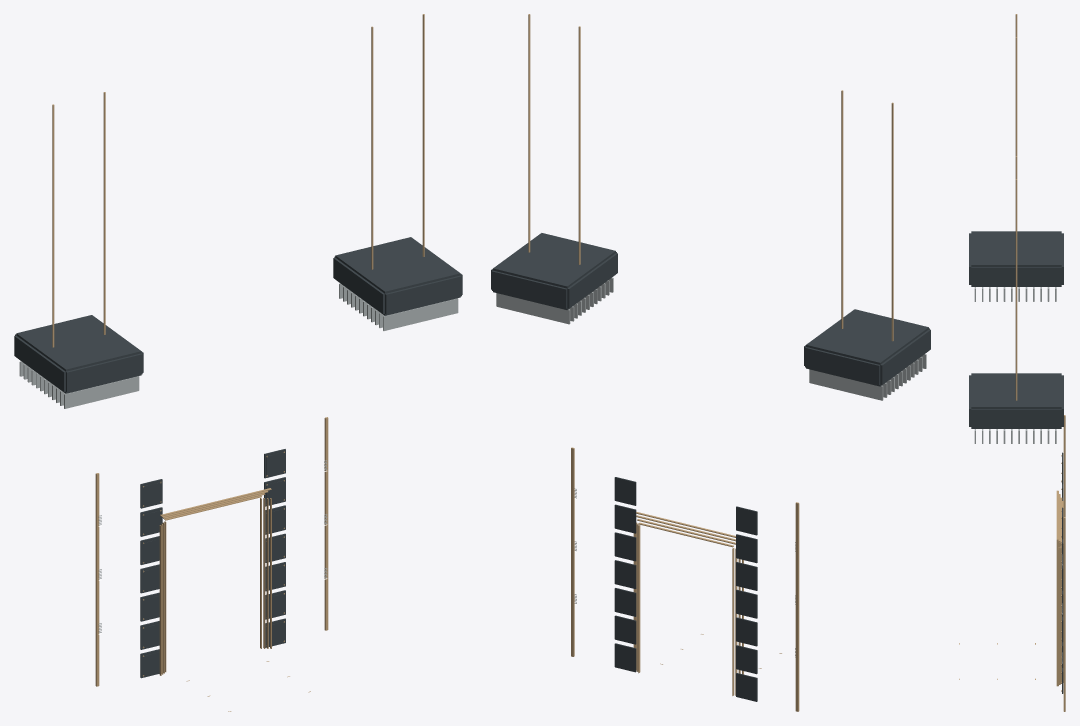
File: A-gate.glb
3 renders of one model, left to right at view 1: azimuth 30°, elevation 25°; view 2: azimuth 150°, elevation 25°; view 3: azimuth 270°, elevation 25°, orthographic. The views are drawn at different scales.
Visible parts, largest first — view 1: A-gate-basalt, A-gate-bronze, A-gate-metal; view 2: A-gate-basalt, A-gate-bronze, A-gate-metal; view 3: A-gate-basalt, A-gate-bronze, A-gate-metal.
Boxes of the visible parts, x1,y1,x2,y2 form: A-gate-basalt: (14,237,462,678); A-gate-bronze: (52,14,424,711); A-gate-metal: (19,283,458,632); A-gate-basalt: (491,233,930,701); A-gate-bronze: (528,14,893,711); A-gate-metal: (496,277,926,657); A-gate-basalt: (969,231,1063,693); A-gate-bronze: (959,14,1065,711); A-gate-metal: (974,287,1062,661).
Size of the model in its own units: 15.5 by 23 by 3.93.
